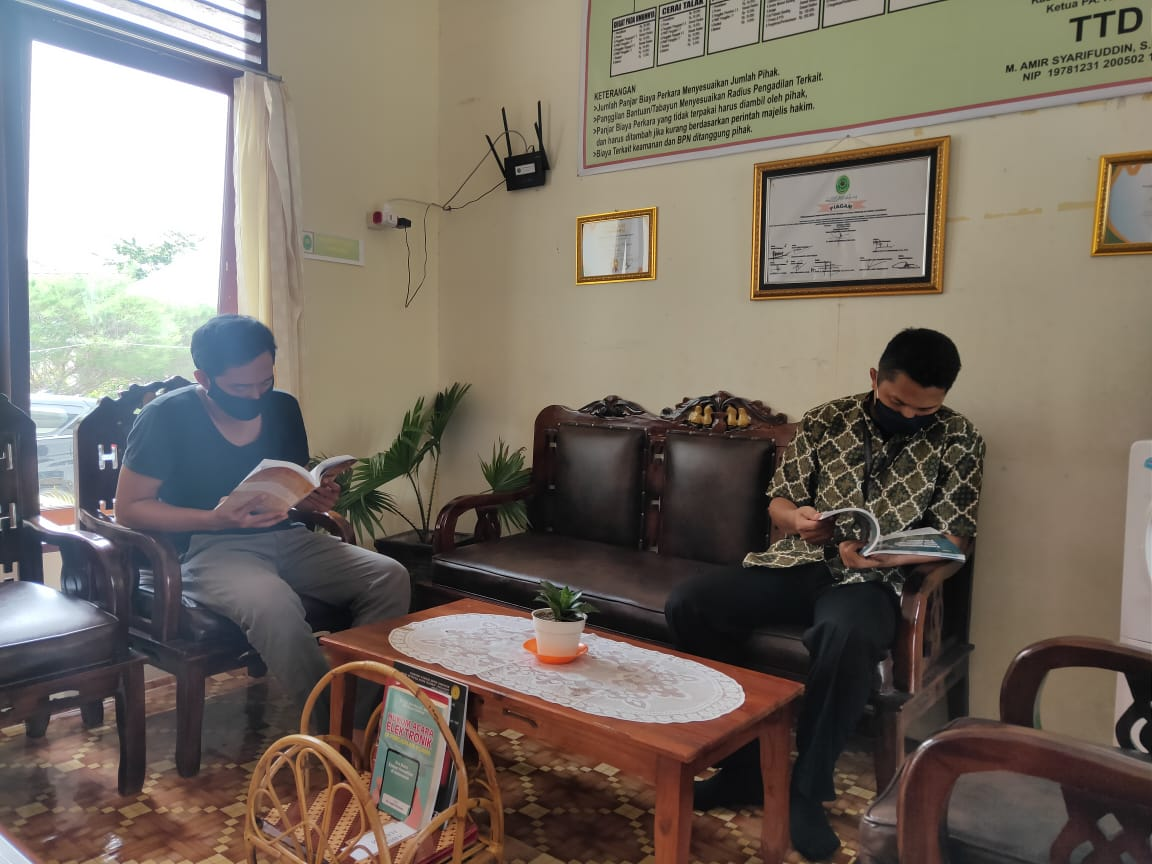meja: (323, 588, 792, 864)
sova: (447, 402, 967, 759)
